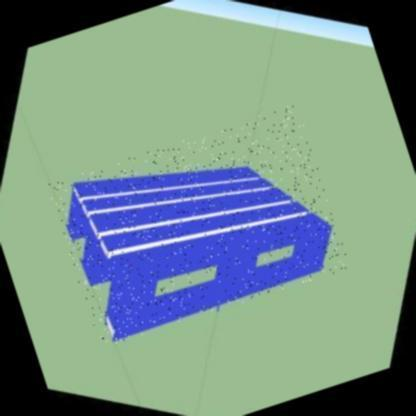pallet: (53, 154, 345, 343)
